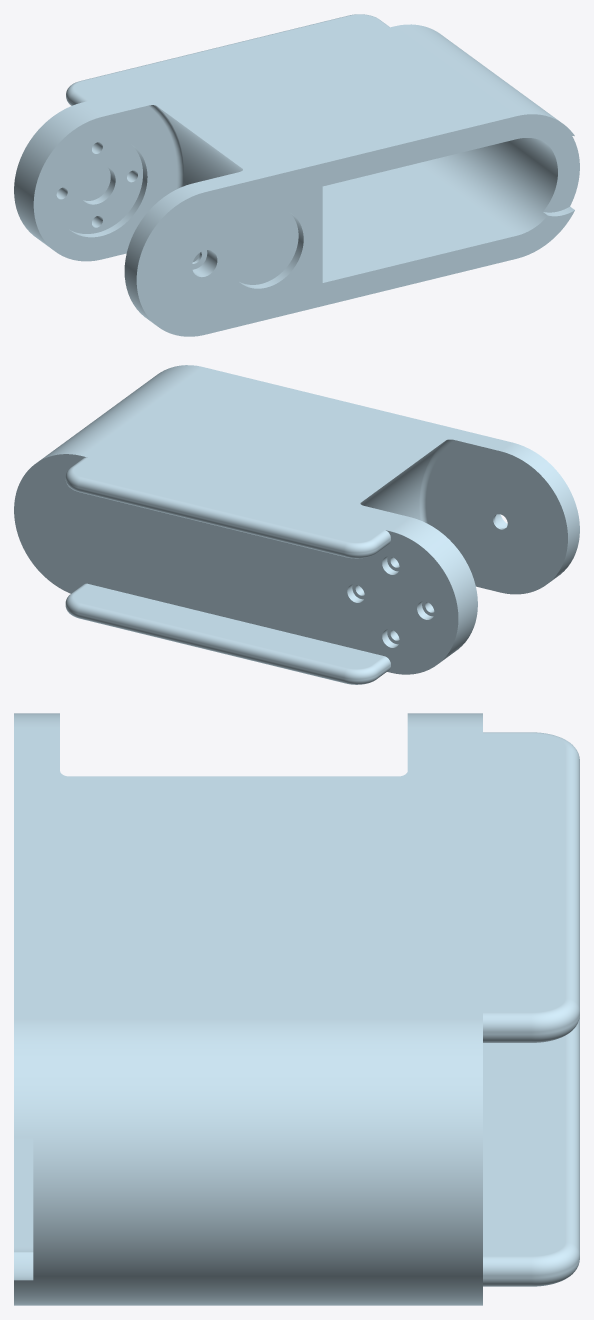
The model's file is _MjBLMIiEhsJtWdrHk.gltf.
The picture shows the model from 3 angles, top to bottom: view 1: azimuth 30°, elevation 25°; view 2: azimuth 150°, elevation 25°; view 3: azimuth 270°, elevation 25°; orthographic projection. The views are drawn at different scales.
Parts seen in each view (by area): view 1: SnakeFront; view 2: SnakeFront; view 3: SnakeFront.
Boxes of the visible parts, x1,y1,x2,y2 form: SnakeFront: (14, 14, 579, 336); SnakeFront: (14, 365, 579, 684); SnakeFront: (14, 713, 579, 1305).
Size of the model in its own units: 0.102 by 0.031 by 0.0583.
